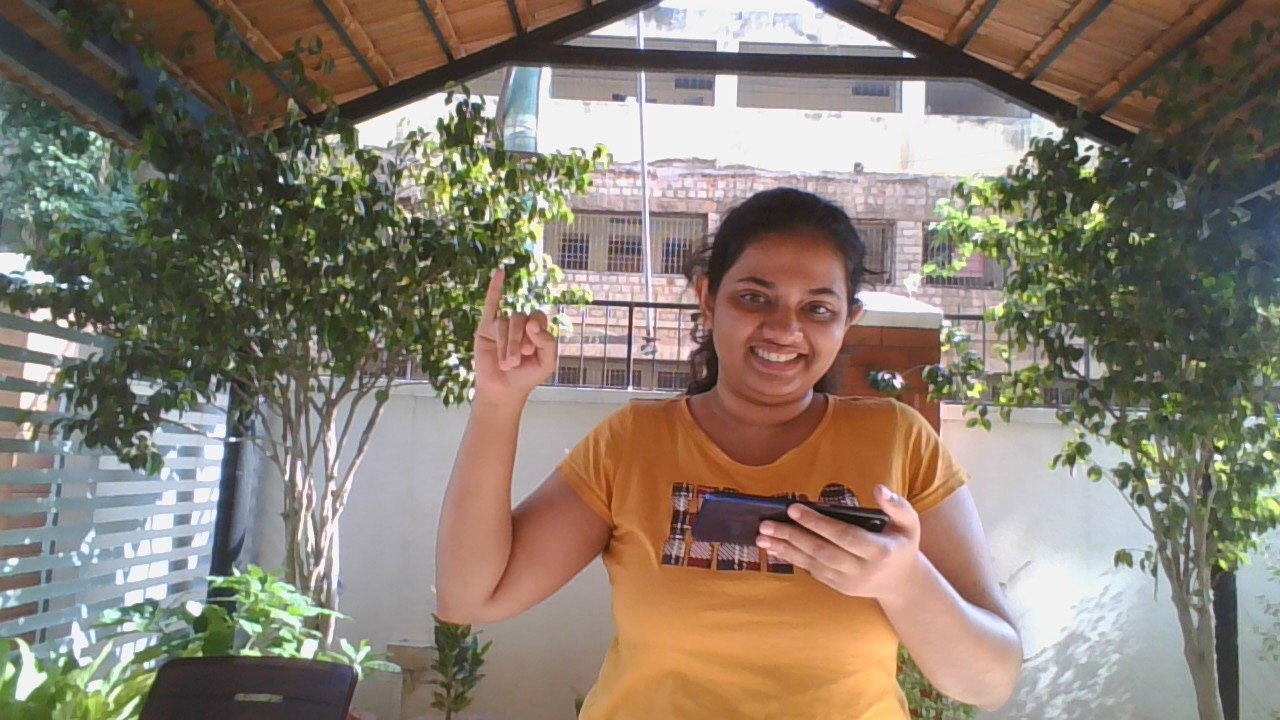i: (447, 257, 577, 429)
